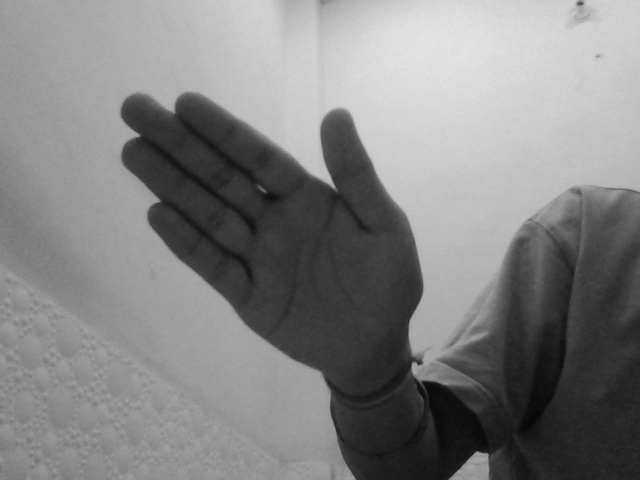Hello: (117, 87, 426, 381)
